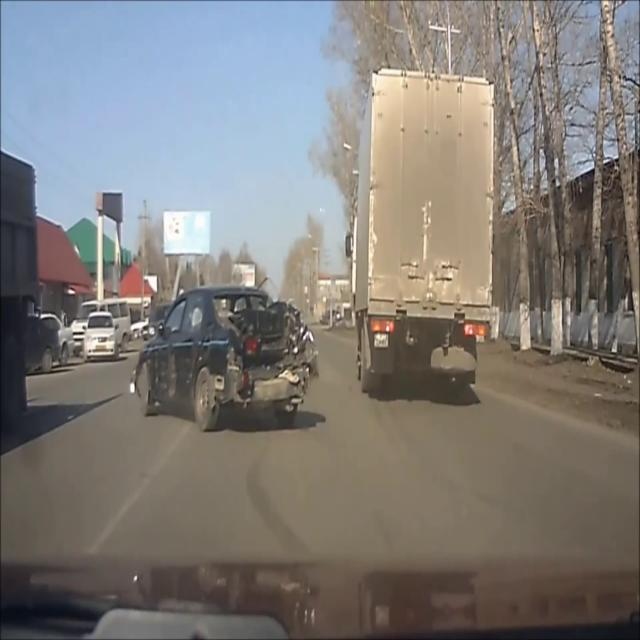accident: (125, 282, 321, 456)
